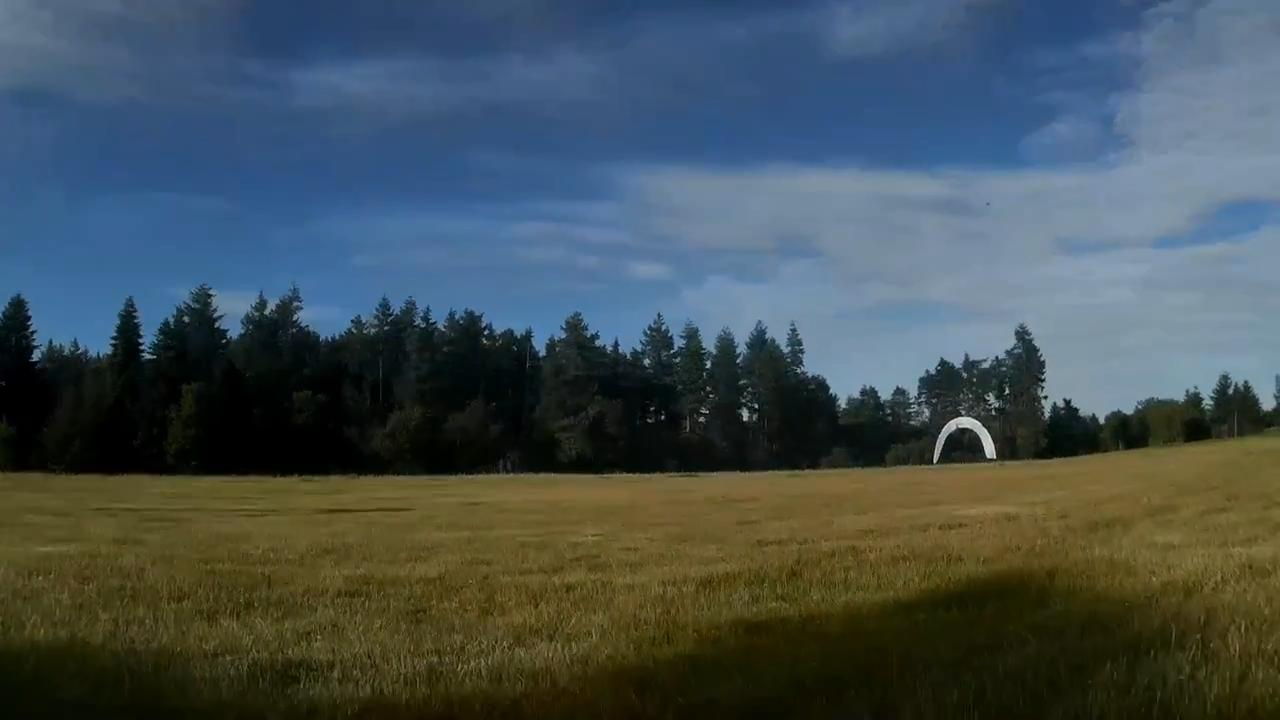gate: (931, 417, 995, 462)
